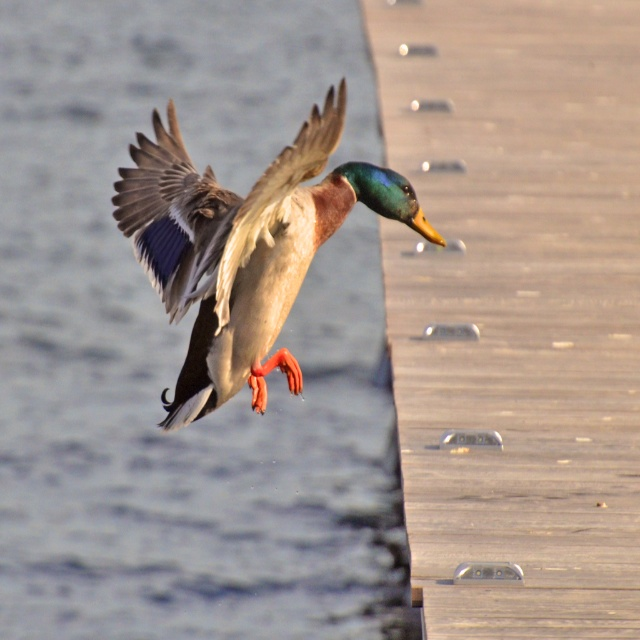Duck: (96, 84, 442, 435)
